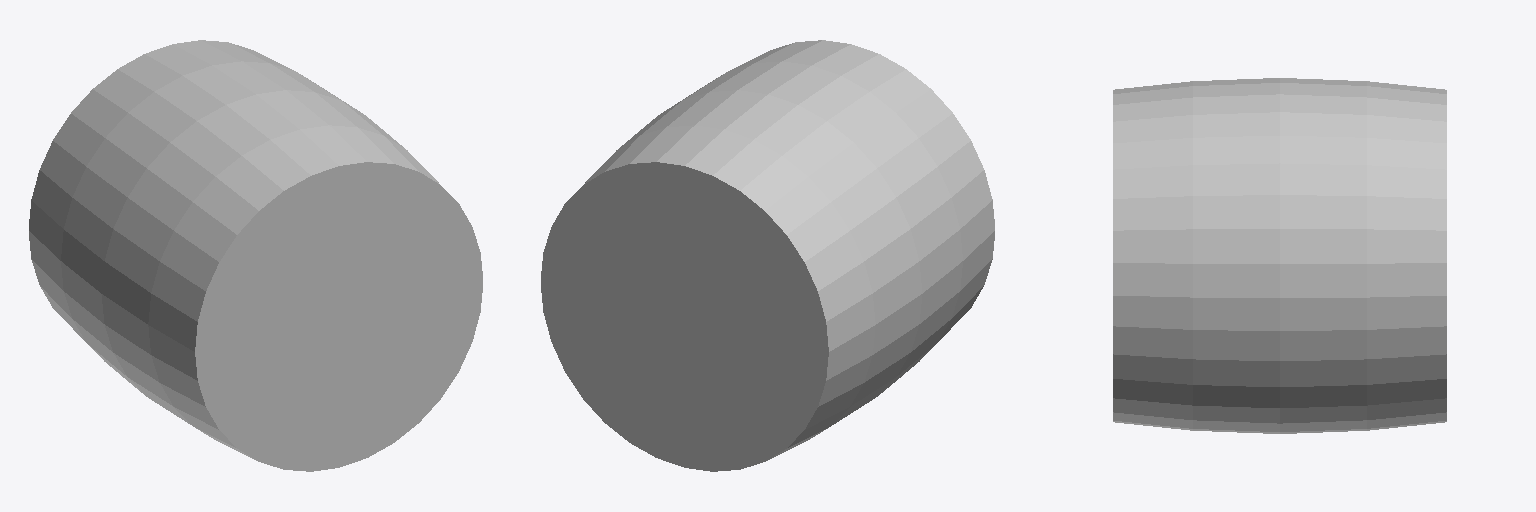
Rendered from Barrel.obj.
The picture shows the model from 3 angles: view 1: azimuth 30°, elevation 25°; view 2: azimuth 150°, elevation 25°; view 3: azimuth 270°, elevation 25°; orthographic projection.
Size of the model in its own units: 2.5 by 2.5 by 2.33.